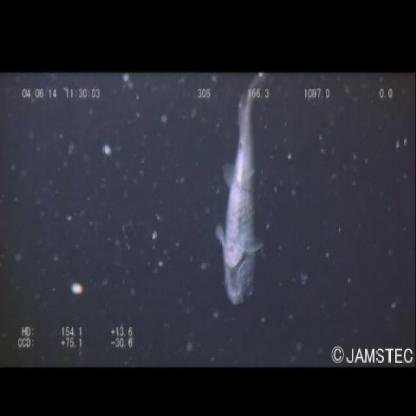Bio: (213, 72, 274, 310)
